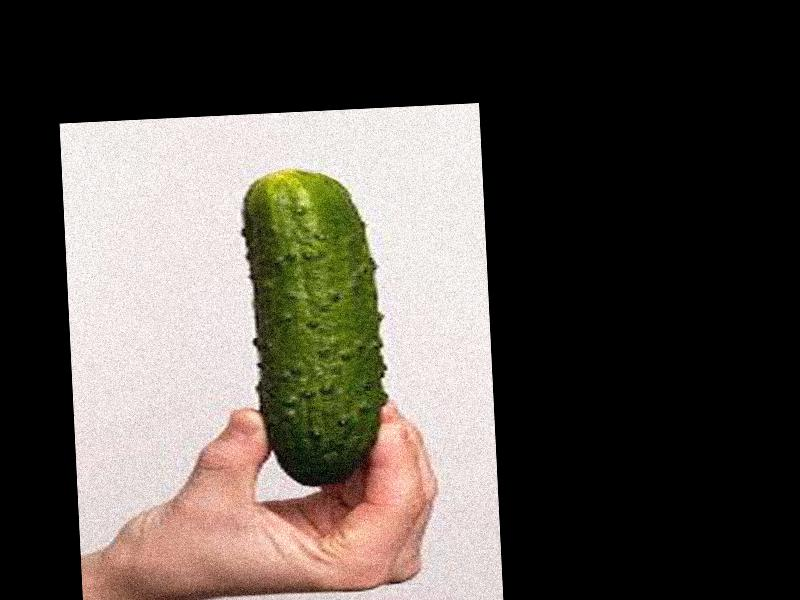Cucumber: (250, 167, 389, 489)
